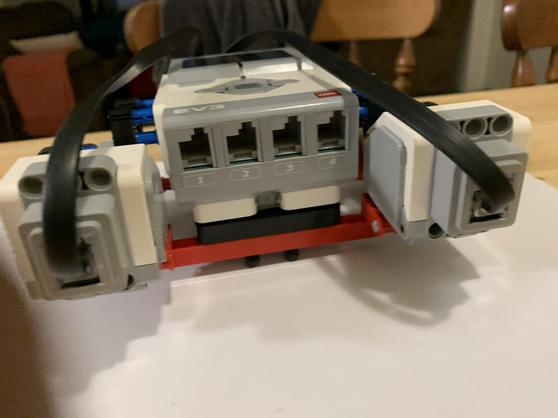robot: (14, 26, 537, 300)
